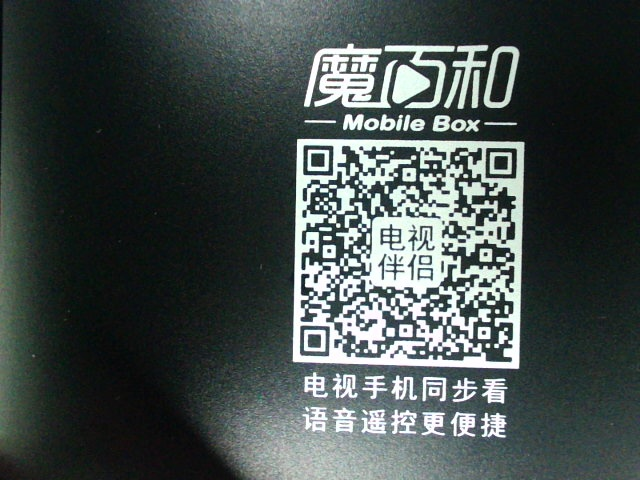AZ_MobileBox: (281, 37, 525, 438)
